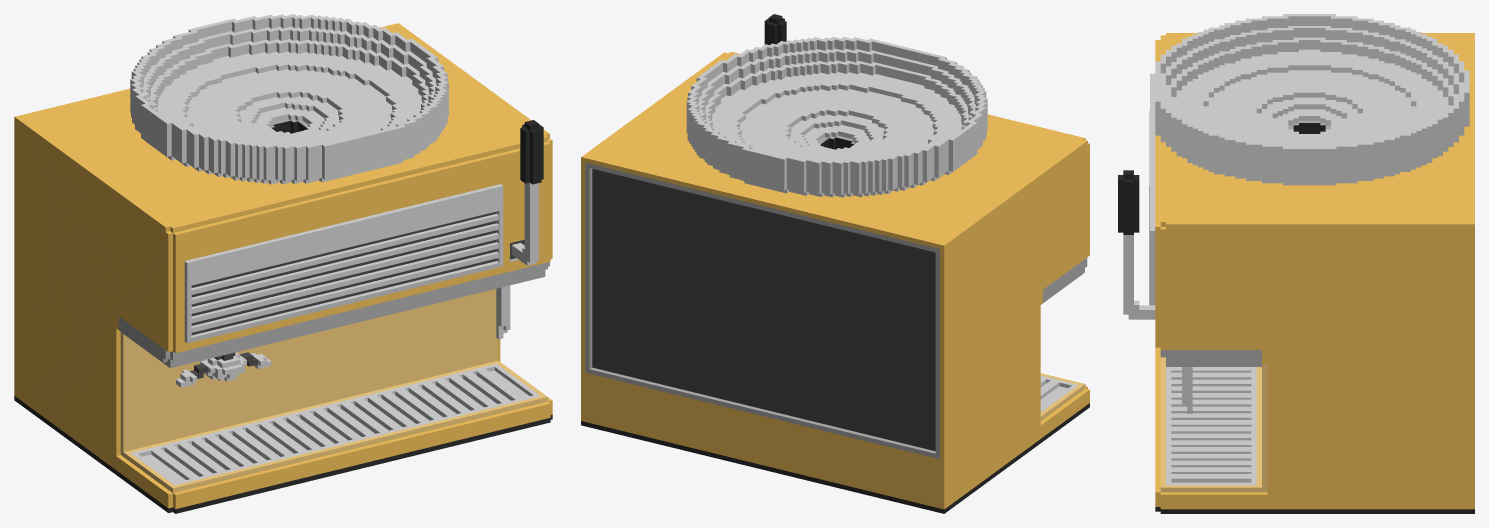
The model's file is EspressoMachine.fbx.
3 renders of one model, left to right at view 1: azimuth 30°, elevation 25°; view 2: azimuth 150°, elevation 25°; view 3: azimuth 270°, elevation 25°, orthographic. The views are drawn at different scales.
Parts seen in each view (by area): view 1: EspressoMachine, FrotherHandle; view 2: EspressoMachine, FrotherHandle; view 3: EspressoMachine, FrotherHandle.
Part boxes in pixels (x1,y1,x2,y2): EspressoMachine: (14, 14, 552, 513); FrotherHandle: (511, 120, 543, 265); EspressoMachine: (581, 36, 1089, 513); FrotherHandle: (764, 14, 786, 45); EspressoMachine: (1149, 14, 1474, 513); FrotherHandle: (1118, 170, 1155, 319).
Bounding box in the file's own units: 8.5 × 7 × 6.7.
1 material, 1 textured.
